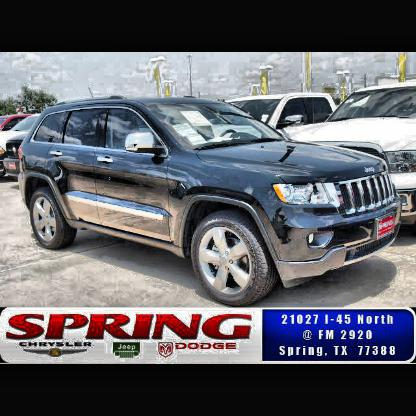Jeep Grand Cherokee SUV 2012: (22, 98, 403, 310)
